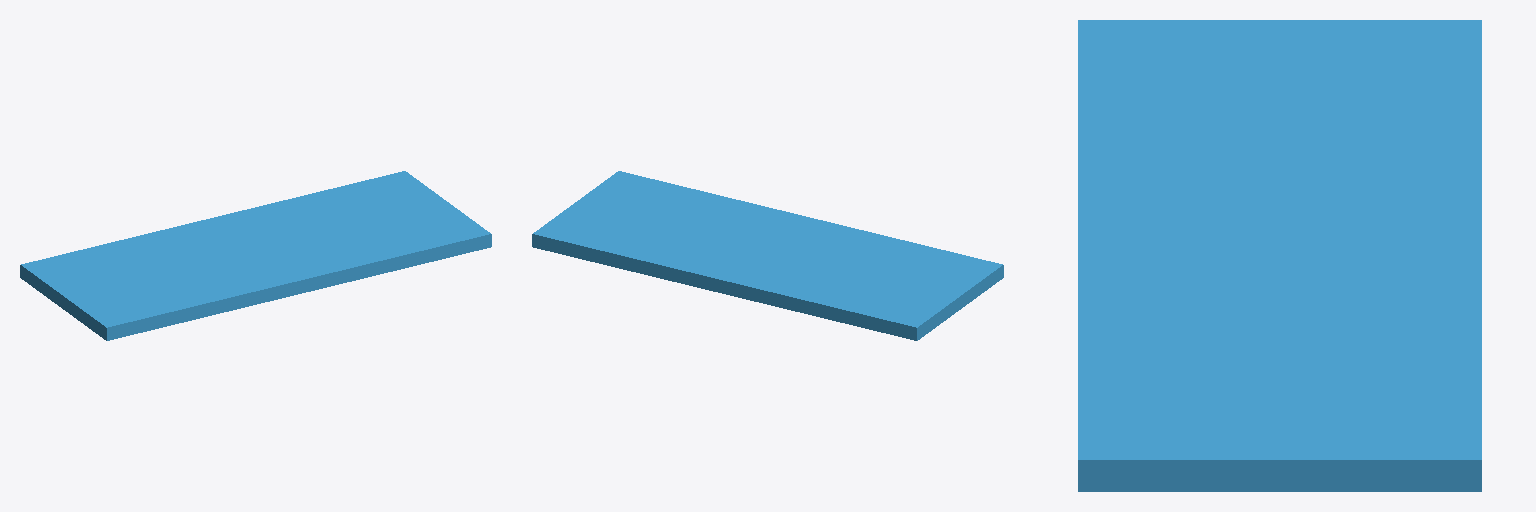
The robot description file, URDF, robot "cylinder_49":
    
    <robot name="cylinder_49">
        <link name="cylinder_49">    
            <fem>
                <origin rpy="0.0 0.0 0.0" xyz="0 0 0" />
                <density value="100" />
                <youngs value="734"/>
                <poissons value="0.3" />
                <damping value="0.0" />
                <attachDistance value="0.01" />
                <tetmesh filename="[local-path]/sim_data/Custom/Custom_mesh/multi_cylinder_1kPa/cylinder_49.tet" />
                <scale value="0.5"/>
            </fem>
        </link>

        <link name="fix_frame">
            <visual>
                <origin xyz="0.0 0.0 10.082157053786712"/>
                <geometry>
                    <box size="0.15 0.058253988973890176 0.005"/>
                </geometry>
            </visual>
            <collision>
                <origin xyz="0.0 0.0 0.08215705378671165"/>
                <geometry>
                    <box size="0.15 0.058253988973890176 0.005"/>
                </geometry>
            </collision>
            <inertial>
                <mass value="500000"/>
                <inertia ixx="0.05" ixy="0.0" ixz="0.0" iyy="0.05" iyz="0.0" izz="0.05"/>
            </inertial>
        </link>
        
        <joint name = "attach" type = "fixed">
            <origin xyz = "0.0 0.0 0.0" rpy = "0 0 0"/>
            <parent link ="cylinder_49"/>
            <child link = "fix_frame"/>
        </joint>  




    </robot>
    

--- What the picture shows (computed from the rendered views, not written in the file) ---
3 views of the same robot in one strip: view 1: azimuth 30°, elevation 25°; view 2: azimuth 150°, elevation 25°; view 3: azimuth 270°, elevation 25° (orthographic).
Model cylinder_49 with 2 links and 1 joints (1 fixed), rooted at cylinder_49, posed all joints at 0.
Visible links, largest first — view 1: fix_frame; view 2: fix_frame; view 3: fix_frame.
Boxes of the visible links, left/top/right/bottom form: fix_frame: left=20, top=171, right=491, bottom=340; fix_frame: left=532, top=171, right=1003, bottom=340; fix_frame: left=1078, top=20, right=1481, bottom=491.
Bounding box of the posed robot: 0.15 × 0.0583 × 0.005 m (x, y, z).
Geometry: primitives only (box / cylinder / sphere), no mesh files.
